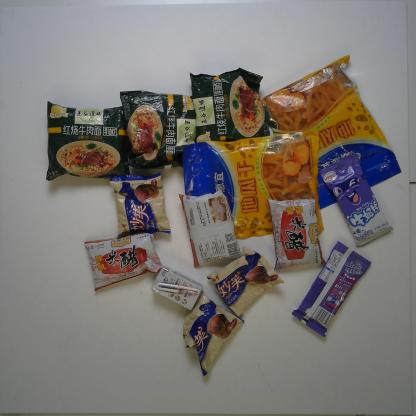Candy: (289, 239, 373, 339), (318, 153, 393, 247)
Dessert: (206, 245, 285, 318), (182, 290, 246, 376), (109, 171, 172, 240)
Dried Fruit: (260, 53, 402, 209), (182, 128, 323, 237)
Instant Noodles: (43, 99, 130, 181), (187, 67, 269, 140), (119, 88, 188, 171)
Milk: (151, 266, 202, 312)
Seasoner: (178, 187, 244, 268), (83, 232, 164, 292), (266, 196, 328, 271)
